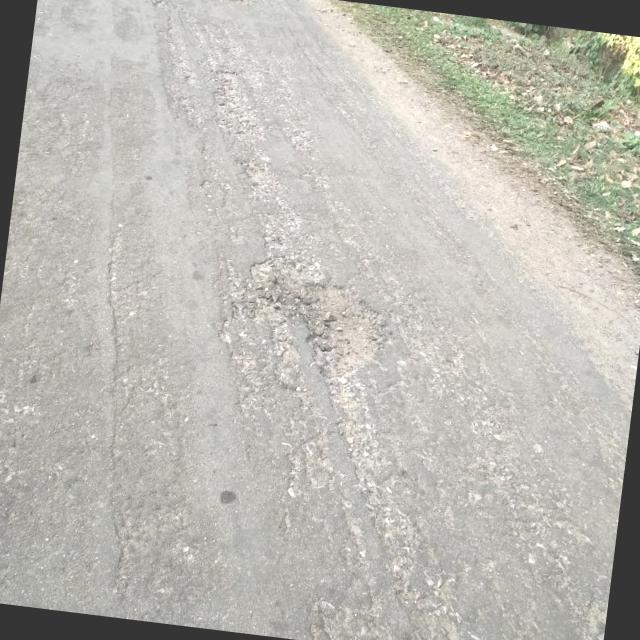Pothole: (225, 255, 390, 382)
